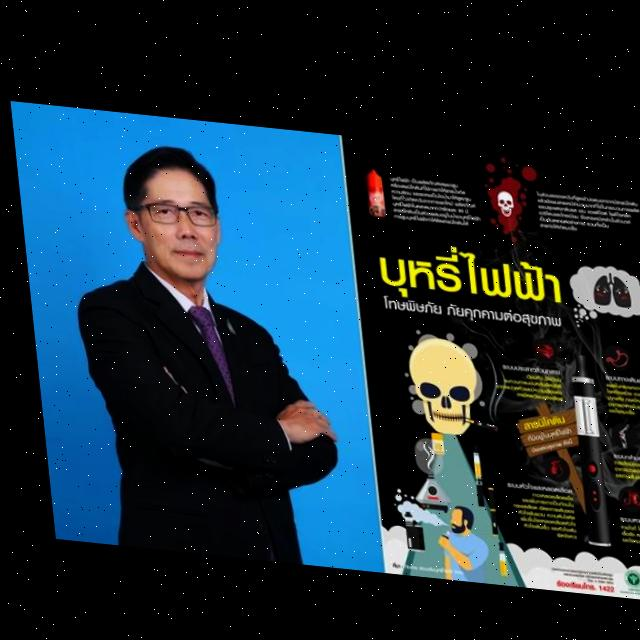vape: (563, 341, 602, 536), (394, 503, 415, 544), (464, 436, 475, 497), (478, 478, 488, 527), (458, 409, 490, 423), (487, 532, 496, 567)
